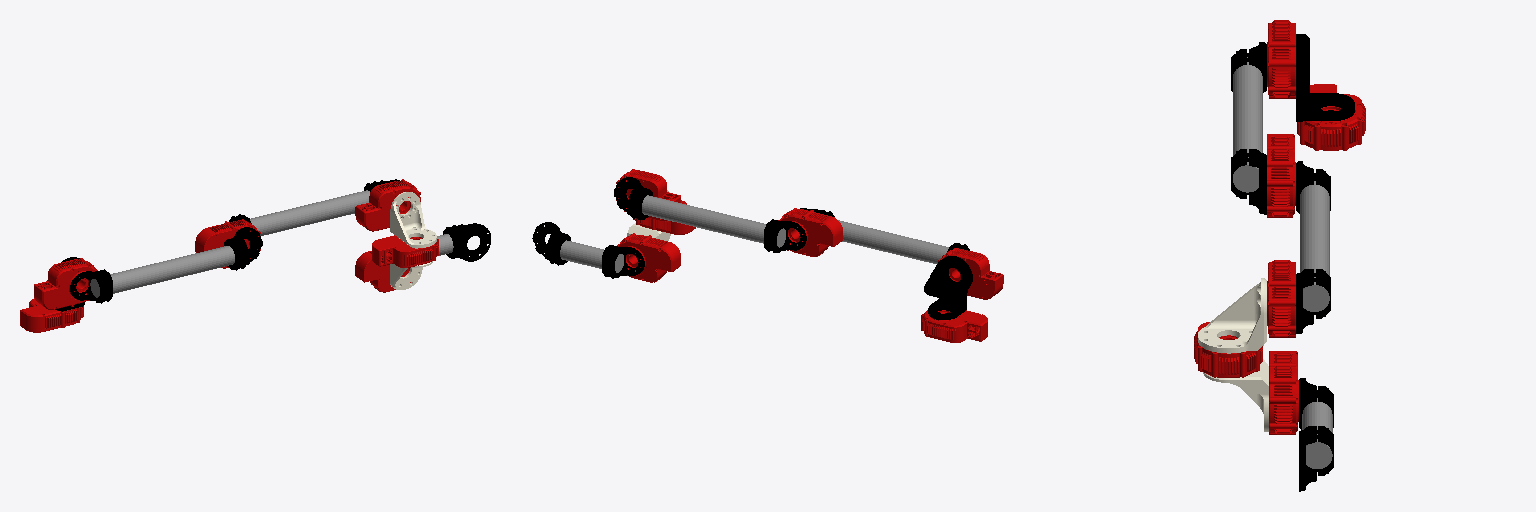
The robot description file, URDF, robot "6_dof_arm":
<?xml version="1.0" ?>
<!-- =================================================================================== -->
<!-- |    This document was autogenerated by xacro from 6_dof_arm.xacro                | -->
<!-- |    EDITING THIS FILE BY HAND IS NOT RECOMMENDED                                 | -->
<!-- =================================================================================== -->
<robot name="6_dof_arm" xmlns:xacro="http://www.ros.org/wiki/xacro">
  <!-- *************************** XACRO MACROS *************************** -->
  <!-- ************************* ROBOT DEFINITION ************************* -->
  <!-- world link -->
  <link name="world"/>
  <joint name="world_joint" type="fixed">
    <origin rpy="0 0 0" xyz="0 0 0"/>
    <parent link="world"/>
    <child link="HEBI/joint1/INPUT_INTERFACE"/>
  </joint>
  <link name="HEBI/joint1/INPUT_INTERFACE">
    <visual>
      <origin rpy="0 0 0" xyz="0 0 0"/>
      <geometry>
        <mesh filename="package://hebiros_description/meshes/x5.stl" scale="0.001 0.001 0.001"/>
      </geometry>
      <material name="red">
        <color rgba=".82 0.06 0.06 1"/>
      </material>
    </visual>
    <collision>
      <origin rpy="0 0 0" xyz="0 0 0"/>
      <geometry>
        <mesh filename="package://hebiros_description/meshes/x5.stl" scale="0.001 0.001 0.001"/>
      </geometry>
    </collision>
    <inertial>
      <origin rpy="0 0 0" xyz="-0.0142 -0.0031 0.0165"/>
      <mass value="0.335"/>
      <inertia ixx="0.00015" ixy="0.0000341" ixz="0.0000118" iyy="0.000255" iyz="0.00000229" izz="0.000350"/>
    </inertial>
  </link>
  <joint name="HEBI/joint1/X5_4" type="continuous">
    <parent link="HEBI/joint1/INPUT_INTERFACE"/>
    <child link="joint1_joint2/INPUT_INTERFACE"/>
    <origin rpy="0 0 0" xyz="0 0 0.031"/>
    <axis xyz="0 0 1"/>
    <limit effort="7.0" velocity="32"/>
    <dynamics damping="0.1" friction="0.1"/>
  </joint>
  <gazebo reference="HEBI/joint1/INPUT_INTERFACE">
    <selfCollide>true</selfCollide>
    <gravity>true</gravity>
    <sensor name="HEBI/joint1/imu_sensor" type="imu">
      <always_on>true</always_on>
      <update_rate>100</update_rate>
      <visualize>true</visualize>
      <plugin filename="libgazebo_ros_imu_sensor.so" name="imu_plugin">
        <topicName>/hebiros_gazebo_plugin/imu/HEBI/joint1</topicName>
        <bodyName>HEBI/joint1/imu_link</bodyName>
        <updateRateHZ>10.0</updateRateHZ>
        <gaussianNoise>0.0</gaussianNoise>
        <xyzOffset>0.025 0 0.003</xyzOffset>
        <rpyOffset>0 0 0</rpyOffset>
        <frameName>HEBI/joint1/imu_link</frameName>
      </plugin>
      <pose>0 0 0 0 0 0</pose>
    </sensor>
    <material>Gazebo/BlueGlow</material>
  </gazebo>
  <link name="joint1_joint2/INPUT_INTERFACE">
    <visual>
      <origin rpy="1.57079632679 0 1.57079632679" xyz="0 0 0.005"/>
      <geometry>
        <mesh filename="package://hebiros_description/meshes/PM-2149-01.stl" scale="0.001 0.001 0.001"/>
      </geometry>
      <material name="black">
        <color rgba="0 0 0 1"/>
      </material>
    </visual>
    <visual>
      <origin rpy="1.57079632679 0 0" xyz="0 -.03 .04"/>
      <geometry>
        <mesh filename="package://hebiros_description/meshes/PM-2150-01R.stl" scale="0.001 0.001 0.001"/>
      </geometry>
      <material name="black">
        <color rgba="0 0 0 1"/>
      </material>
    </visual>
    <collision>
      <origin rpy="1.57079632679 0 1.57079632679" xyz="0 0 0.005"/>
      <geometry>
        <mesh filename="package://hebiros_description/meshes/PM-2149-01.stl" scale="0.001 0.001 0.001"/>
      </geometry>
    </collision>
    <collision>
      <origin rpy="1.57079632679 0 0" xyz="0 -.03 .04"/>
      <geometry>
        <mesh filename="package://hebiros_description/meshes/PM-2150-01R.stl" scale="0.001 0.001 0.001"/>
      </geometry>
    </collision>
    <!-- NOTE: inertia is just modelled as small sphere, and could be improved. -->
    <inertial>
      <origin rpy="0 0 0" xyz="0 -0.01875 .0275"/>
      <mass value="0.215"/>
      <inertia ixx="0.0003096" ixy="0.0" ixz="0.0" iyy="0.0003096" iyz="0.0" izz="0.0003096"/>
    </inertial>
  </link>
  <joint name="joint1_joint2/OUTPUT_INTERFACE" type="fixed">
    <parent link="joint1_joint2/INPUT_INTERFACE"/>
    <child link="HEBI/joint2/INPUT_INTERFACE"/>
    <origin rpy="1.57079632679 0 0" xyz="0 -.0375 .055"/>
  </joint>
  <gazebo reference="joint1_joint2/INPUT_INTERFACE">
    <selfCollide>true</selfCollide>
  </gazebo>
  <link name="HEBI/joint2/INPUT_INTERFACE">
    <visual>
      <origin rpy="0 0 0" xyz="0 0 0"/>
      <geometry>
        <mesh filename="package://hebiros_description/meshes/x5.stl" scale="0.001 0.001 0.001"/>
      </geometry>
      <material name="red">
        <color rgba=".82 0.06 0.06 1"/>
      </material>
    </visual>
    <collision>
      <origin rpy="0 0 0" xyz="0 0 0"/>
      <geometry>
        <mesh filename="package://hebiros_description/meshes/x5.stl" scale="0.001 0.001 0.001"/>
      </geometry>
    </collision>
    <inertial>
      <origin rpy="0 0 0" xyz="-0.0142 -0.0031 0.0165"/>
      <mass value="0.335"/>
      <inertia ixx="0.00015" ixy="0.0000341" ixz="0.0000118" iyy="0.000255" iyz="0.00000229" izz="0.000350"/>
    </inertial>
  </link>
  <joint name="HEBI/joint2/X5_4" type="continuous">
    <parent link="HEBI/joint2/INPUT_INTERFACE"/>
    <child link="joint2_joint3/INPUT_INTERFACE"/>
    <origin rpy="0 0 0" xyz="0 0 0.031"/>
    <axis xyz="0 0 1"/>
    <limit effort="7.0" velocity="32"/>
    <dynamics damping="0.1" friction="0.1"/>
  </joint>
  <gazebo reference="HEBI/joint2/INPUT_INTERFACE">
    <selfCollide>true</selfCollide>
    <gravity>true</gravity>
    <sensor name="HEBI/joint2/imu_sensor" type="imu">
      <always_on>true</always_on>
      <update_rate>100</update_rate>
      <visualize>true</visualize>
      <plugin filename="libgazebo_ros_imu_sensor.so" name="imu_plugin">
        <topicName>/hebiros_gazebo_plugin/imu/HEBI/joint2</topicName>
        <bodyName>HEBI/joint2/imu_link</bodyName>
        <updateRateHZ>10.0</updateRateHZ>
        <gaussianNoise>0.0</gaussianNoise>
        <xyzOffset>0.025 0 0.003</xyzOffset>
        <rpyOffset>0 0 0</rpyOffset>
        <frameName>HEBI/joint2/imu_link</frameName>
      </plugin>
      <pose>0 0 0 0 0 0</pose>
    </sensor>
    <material>Gazebo/BlueGlow</material>
  </gazebo>
  <link name="joint2_joint3/INPUT_INTERFACE">
    <visual>
      <origin rpy="0 0 0" xyz="0 0 0"/>
      <geometry>
        <mesh filename="package://hebiros_description/meshes/A-2038-02.stl"/>
      </geometry>
      <material name="black">
        <color rgba="0 0 0 1"/>
      </material>
    </visual>
    <visual>
      <origin rpy="0 1.57075 0" xyz="0.15 0 0.02"/>
      <geometry>
        <cylinder length="0.2746" radius=".016"/>
      </geometry>
      <material name="silver">
        <color rgba="0.6 0.6 0.6 1"/>
      </material>
    </visual>
    <visual>
      <origin rpy="-3.14159265359 0 0" xyz="0.3 -2.44929359829e-18 0.0"/>
      <geometry>
        <mesh filename="package://hebiros_description/meshes/A-2039-02.stl"/>
      </geometry>
      <material name="black">
        <color rgba="0 0 0 1"/>
      </material>
    </visual>
    <collision>
      <origin rpy="0 0 0" xyz="0 0 0"/>
      <geometry>
        <mesh filename="package://hebiros_description/meshes/A-2038-02.stl"/>
      </geometry>
    </collision>
    <collision>
      <origin rpy="0 1.57075 0" xyz="0.15 0 0.02"/>
      <geometry>
        <cylinder length="0.2746" radius=".016"/>
      </geometry>
    </collision>
    <collision>
      <origin rpy="-3.14159265359 0 0" xyz="0.3 -2.44929359829e-18 0.0"/>
      <geometry>
        <mesh filename="package://hebiros_description/meshes/A-2039-02.stl"/>
      </geometry>
    </collision>
    <!-- Approximate inertia as thin rod about x axis -->
    <inertial>
      <origin rpy="0 0 0" xyz="0.15 0 0.02"/>
      <mass value="0.392"/>
      <inertia ixx="0.0" ixy="0.0" ixz="0.0" iyy="0.00294" iyz="0.0" izz="0.00294"/>
    </inertial>
  </link>
  <joint name="joint2_joint3/OUTPUT_JOINT" type="fixed">
    <parent link="joint2_joint3/INPUT_INTERFACE"/>
    <child link="HEBI/joint3/INPUT_INTERFACE"/>
    <origin rpy="3.14159265359 0 0" xyz="0.3 -2.44929359829e-18 0.0"/>
  </joint>
  <gazebo reference="joint2_joint3/INPUT_INTERFACE">
    <selfCollide>true</selfCollide>
    <material>Gazebo/FlatBlack</material>
  </gazebo>
  <link name="HEBI/joint3/INPUT_INTERFACE">
    <visual>
      <origin rpy="0 0 0" xyz="0 0 0"/>
      <geometry>
        <mesh filename="package://hebiros_description/meshes/x5.stl" scale="0.001 0.001 0.001"/>
      </geometry>
      <material name="red">
        <color rgba=".82 0.06 0.06 1"/>
      </material>
    </visual>
    <collision>
      <origin rpy="0 0 0" xyz="0 0 0"/>
      <geometry>
        <mesh filename="package://hebiros_description/meshes/x5.stl" scale="0.001 0.001 0.001"/>
      </geometry>
    </collision>
    <inertial>
      <origin rpy="0 0 0" xyz="-0.0142 -0.0031 0.0165"/>
      <mass value="0.335"/>
      <inertia ixx="0.00015" ixy="0.0000341" ixz="0.0000118" iyy="0.000255" iyz="0.00000229" izz="0.000350"/>
    </inertial>
  </link>
  <joint name="HEBI/joint3/X5_4" type="continuous">
    <parent link="HEBI/joint3/INPUT_INTERFACE"/>
    <child link="joint3_joint4/INPUT_INTERFACE"/>
    <origin rpy="0 0 0" xyz="0 0 0.031"/>
    <axis xyz="0 0 1"/>
    <limit effort="7.0" velocity="32"/>
    <dynamics damping="0.1" friction="0.1"/>
  </joint>
  <gazebo reference="HEBI/joint3/INPUT_INTERFACE">
    <selfCollide>true</selfCollide>
    <gravity>true</gravity>
    <sensor name="HEBI/joint3/imu_sensor" type="imu">
      <always_on>true</always_on>
      <update_rate>100</update_rate>
      <visualize>true</visualize>
      <plugin filename="libgazebo_ros_imu_sensor.so" name="imu_plugin">
        <topicName>/hebiros_gazebo_plugin/imu/HEBI/joint3</topicName>
        <bodyName>HEBI/joint3/imu_link</bodyName>
        <updateRateHZ>10.0</updateRateHZ>
        <gaussianNoise>0.0</gaussianNoise>
        <xyzOffset>0.025 0 0.003</xyzOffset>
        <rpyOffset>0 0 0</rpyOffset>
        <frameName>HEBI/joint3/imu_link</frameName>
      </plugin>
      <pose>0 0 0 0 0 0</pose>
    </sensor>
    <material>Gazebo/BlueGlow</material>
  </gazebo>
  <link name="joint3_joint4/INPUT_INTERFACE">
    <visual>
      <origin rpy="0 0 0" xyz="0 0 0"/>
      <geometry>
        <mesh filename="package://hebiros_description/meshes/A-2038-02.stl"/>
      </geometry>
      <material name="black">
        <color rgba="0 0 0 1"/>
      </material>
    </visual>
    <visual>
      <origin rpy="0 1.57075 0" xyz="0.15 0 0.02"/>
      <geometry>
        <cylinder length="0.2746" radius=".016"/>
      </geometry>
      <material name="silver">
        <color rgba="0.6 0.6 0.6 1"/>
      </material>
    </visual>
    <visual>
      <origin rpy="-3.14159265359 0 0" xyz="0.3 -2.44929359829e-18 0.0"/>
      <geometry>
        <mesh filename="package://hebiros_description/meshes/A-2039-02.stl"/>
      </geometry>
      <material name="black">
        <color rgba="0 0 0 1"/>
      </material>
    </visual>
    <collision>
      <origin rpy="0 0 0" xyz="0 0 0"/>
      <geometry>
        <mesh filename="package://hebiros_description/meshes/A-2038-02.stl"/>
      </geometry>
    </collision>
    <collision>
      <origin rpy="0 1.57075 0" xyz="0.15 0 0.02"/>
      <geometry>
        <cylinder length="0.2746" radius=".016"/>
      </geometry>
    </collision>
    <collision>
      <origin rpy="-3.14159265359 0 0" xyz="0.3 -2.44929359829e-18 0.0"/>
      <geometry>
        <mesh filename="package://hebiros_description/meshes/A-2039-02.stl"/>
      </geometry>
    </collision>
    <!-- Approximate inertia as thin rod about x axis -->
    <inertial>
      <origin rpy="0 0 0" xyz="0.15 0 0.02"/>
      <mass value="0.392"/>
      <inertia ixx="0.0" ixy="0.0" ixz="0.0" iyy="0.00294" iyz="0.0" izz="0.00294"/>
    </inertial>
  </link>
  <joint name="joint3_joint4/OUTPUT_JOINT" type="fixed">
    <parent link="joint3_joint4/INPUT_INTERFACE"/>
    <child link="HEBI/joint4/INPUT_INTERFACE"/>
    <origin rpy="3.14159265359 0 0" xyz="0.3 -2.44929359829e-18 0.0"/>
  </joint>
  <gazebo reference="joint3_joint4/INPUT_INTERFACE">
    <selfCollide>true</selfCollide>
    <material>Gazebo/FlatBlack</material>
  </gazebo>
  <link name="HEBI/joint4/INPUT_INTERFACE">
    <visual>
      <origin rpy="0 0 0" xyz="0 0 0"/>
      <geometry>
        <mesh filename="package://hebiros_description/meshes/x5.stl" scale="0.001 0.001 0.001"/>
      </geometry>
      <material name="red">
        <color rgba=".82 0.06 0.06 1"/>
      </material>
    </visual>
    <collision>
      <origin rpy="0 0 0" xyz="0 0 0"/>
      <geometry>
        <mesh filename="package://hebiros_description/meshes/x5.stl" scale="0.001 0.001 0.001"/>
      </geometry>
    </collision>
    <inertial>
      <origin rpy="0 0 0" xyz="-0.0142 -0.0031 0.0165"/>
      <mass value="0.335"/>
      <inertia ixx="0.00015" ixy="0.0000341" ixz="0.0000118" iyy="0.000255" iyz="0.00000229" izz="0.000350"/>
    </inertial>
  </link>
  <joint name="HEBI/joint4/X5_4" type="continuous">
    <parent link="HEBI/joint4/INPUT_INTERFACE"/>
    <child link="joint4_joint5/INPUT_INTERFACE"/>
    <origin rpy="0 0 0" xyz="0 0 0.031"/>
    <axis xyz="0 0 1"/>
    <limit effort="7.0" velocity="32"/>
    <dynamics damping="0.1" friction="0.1"/>
  </joint>
  <gazebo reference="HEBI/joint4/INPUT_INTERFACE">
    <selfCollide>true</selfCollide>
    <gravity>true</gravity>
    <sensor name="HEBI/joint4/imu_sensor" type="imu">
      <always_on>true</always_on>
      <update_rate>100</update_rate>
      <visualize>true</visualize>
      <plugin filename="libgazebo_ros_imu_sensor.so" name="imu_plugin">
        <topicName>/hebiros_gazebo_plugin/imu/HEBI/joint4</topicName>
        <bodyName>HEBI/joint4/imu_link</bodyName>
        <updateRateHZ>10.0</updateRateHZ>
        <gaussianNoise>0.0</gaussianNoise>
        <xyzOffset>0.025 0 0.003</xyzOffset>
        <rpyOffset>0 0 0</rpyOffset>
        <frameName>HEBI/joint4/imu_link</frameName>
      </plugin>
      <pose>0 0 0 0 0 0</pose>
    </sensor>
    <material>Gazebo/BlueGlow</material>
  </gazebo>
  <link name="joint4_joint5/INPUT_INTERFACE">
    <visual>
      <origin rpy="1.57079632679 0 -1.57079632679" xyz="0 0 0"/>
      <geometry>
        <mesh filename="package://hebiros_description/meshes/PM-2132-01R.stl" scale="0.001 0.001 0.001"/>
      </geometry>
      <material name="beige">
        <color rgba="0.96 0.945 0.871 1"/>
      </material>
    </visual>
    <collision>
      <origin rpy="1.57079632679 0 -1.57079632679" xyz="0 0 0"/>
      <geometry>
        <mesh filename="package://hebiros_description/meshes/PM-2132-01R.stl" scale="0.001 0.001 0.001"/>
      </geometry>
    </collision>
    <!-- NOTE: inertia is just modelled as small sphere, and could be improved. -->
    <inertial>
      <origin rpy="0 0 0" xyz="0 -.0215 .02"/>
      <mass value="0.1"/>
      <inertia ixx="0.000144" ixy="0.0" ixz="0.0" iyy="0.000144" iyz="0.0" izz="0.000144"/>
    </inertial>
  </link>
  <joint name="joint4_joint5/OUTPUT_INTERFACE" type="fixed">
    <parent link="joint4_joint5/INPUT_INTERFACE"/>
    <child link="HEBI/joint5/INPUT_INTERFACE"/>
    <origin rpy="1.57079632679 0 0" xyz="0 -.043 .04"/>
  </joint>
  <gazebo reference="joint4_joint5/INPUT_INTERFACE">
    <selfCollide>true</selfCollide>
  </gazebo>
  <link name="HEBI/joint5/INPUT_INTERFACE">
    <visual>
      <origin rpy="0 0 0" xyz="0 0 0"/>
      <geometry>
        <mesh filename="package://hebiros_description/meshes/x5.stl" scale="0.001 0.001 0.001"/>
      </geometry>
      <material name="red">
        <color rgba=".82 0.06 0.06 1"/>
      </material>
    </visual>
    <collision>
      <origin rpy="0 0 0" xyz="0 0 0"/>
      <geometry>
        <mesh filename="package://hebiros_description/meshes/x5.stl" scale="0.001 0.001 0.001"/>
      </geometry>
    </collision>
    <inertial>
      <origin rpy="0 0 0" xyz="-0.0142 -0.0031 0.0165"/>
      <mass value="0.335"/>
      <inertia ixx="0.00015" ixy="0.0000341" ixz="0.0000118" iyy="0.000255" iyz="0.00000229" izz="0.000350"/>
    </inertial>
  </link>
  <joint name="HEBI/joint5/X5_4" type="continuous">
    <parent link="HEBI/joint5/INPUT_INTERFACE"/>
    <child link="joint5_joint6/INPUT_INTERFACE"/>
    <origin rpy="0 0 0" xyz="0 0 0.031"/>
    <axis xyz="0 0 1"/>
    <limit effort="7.0" velocity="32"/>
    <dynamics damping="0.1" friction="0.1"/>
  </joint>
  <gazebo reference="HEBI/joint5/INPUT_INTERFACE">
    <selfCollide>true</selfCollide>
    <gravity>true</gravity>
    <sensor name="HEBI/joint5/imu_sensor" type="imu">
      <always_on>true</always_on>
      <update_rate>100</update_rate>
      <visualize>true</visualize>
      <plugin filename="libgazebo_ros_imu_sensor.so" name="imu_plugin">
        <topicName>/hebiros_gazebo_plugin/imu/HEBI/joint5</topicName>
        <bodyName>HEBI/joint5/imu_link</bodyName>
        <updateRateHZ>10.0</updateRateHZ>
        <gaussianNoise>0.0</gaussianNoise>
        <xyzOffset>0.025 0 0.003</xyzOffset>
        <rpyOffset>0 0 0</rpyOffset>
        <frameName>HEBI/joint5/imu_link</frameName>
      </plugin>
      <pose>0 0 0 0 0 0</pose>
    </sensor>
    <material>Gazebo/BlueGlow</material>
  </gazebo>
  <link name="joint5_joint6/INPUT_INTERFACE">
    <visual>
      <origin rpy="1.57079632679 0 -1.57079632679" xyz="0 0 0"/>
      <geometry>
        <mesh filename="package://hebiros_description/meshes/PM-2132-01R.stl" scale="0.001 0.001 0.001"/>
      </geometry>
      <material name="beige">
        <color rgba="0.96 0.945 0.871 1"/>
      </material>
    </visual>
    <collision>
      <origin rpy="1.57079632679 0 -1.57079632679" xyz="0 0 0"/>
      <geometry>
        <mesh filename="package://hebiros_description/meshes/PM-2132-01R.stl" scale="0.001 0.001 0.001"/>
      </geometry>
    </collision>
    <!-- NOTE: inertia is just modelled as small sphere, and could be improved. -->
    <inertial>
      <origin rpy="0 0 0" xyz="0 -.0215 .02"/>
      <mass value="0.1"/>
      <inertia ixx="0.000144" ixy="0.0" ixz="0.0" iyy="0.000144" iyz="0.0" izz="0.000144"/>
    </inertial>
  </link>
  <joint name="joint5_joint6/OUTPUT_INTERFACE" type="fixed">
    <parent link="joint5_joint6/INPUT_INTERFACE"/>
    <child link="HEBI/joint6/INPUT_INTERFACE"/>
    <origin rpy="1.57079632679 0 0" xyz="0 -.043 .04"/>
  </joint>
  <gazebo reference="joint5_joint6/INPUT_INTERFACE">
    <selfCollide>true</selfCollide>
  </gazebo>
  <link name="HEBI/joint6/INPUT_INTERFACE">
    <visual>
      <origin rpy="0 0 0" xyz="0 0 0"/>
      <geometry>
        <mesh filename="package://hebiros_description/meshes/x5.stl" scale="0.001 0.001 0.001"/>
      </geometry>
      <material name="red">
        <color rgba=".82 0.06 0.06 1"/>
      </material>
    </visual>
    <collision>
      <origin rpy="0 0 0" xyz="0 0 0"/>
      <geometry>
        <mesh filename="package://hebiros_description/meshes/x5.stl" scale="0.001 0.001 0.001"/>
      </geometry>
    </collision>
    <inertial>
      <origin rpy="0 0 0" xyz="-0.0142 -0.0031 0.0165"/>
      <mass value="0.335"/>
      <inertia ixx="0.00015" ixy="0.0000341" ixz="0.0000118" iyy="0.000255" iyz="0.00000229" izz="0.000350"/>
    </inertial>
  </link>
  <joint name="HEBI/joint6/X5_4" type="continuous">
    <parent link="HEBI/joint6/INPUT_INTERFACE"/>
    <child link="joint6_end/INPUT_INTERFACE"/>
    <origin rpy="0 0 0" xyz="0 0 0.031"/>
    <axis xyz="0 0 1"/>
    <limit effort="7.0" velocity="32"/>
    <dynamics damping="0.1" friction="0.1"/>
  </joint>
  <gazebo reference="HEBI/joint6/INPUT_INTERFACE">
    <selfCollide>true</selfCollide>
    <gravity>true</gravity>
    <sensor name="HEBI/joint6/imu_sensor" type="imu">
      <always_on>true</always_on>
      <update_rate>100</update_rate>
      <visualize>true</visualize>
      <plugin filename="libgazebo_ros_imu_sensor.so" name="imu_plugin">
        <topicName>/hebiros_gazebo_plugin/imu/HEBI/joint6</topicName>
        <bodyName>HEBI/joint6/imu_link</bodyName>
        <updateRateHZ>10.0</updateRateHZ>
        <gaussianNoise>0.0</gaussianNoise>
        <xyzOffset>0.025 0 0.003</xyzOffset>
        <rpyOffset>0 0 0</rpyOffset>
        <frameName>HEBI/joint6/imu_link</frameName>
      </plugin>
      <pose>0 0 0 0 0 0</pose>
    </sensor>
    <material>Gazebo/BlueGlow</material>
  </gazebo>
  <link name="joint6_end/INPUT_INTERFACE">
    <visual>
      <origin rpy="0 0 0" xyz="0 0 0"/>
      <geometry>
        <mesh filename="package://hebiros_description/meshes/A-2038-02.stl"/>
      </geometry>
      <material name="black">
        <color rgba="0 0 0 1"/>
      </material>
    </visual>
    <visual>
      <origin rpy="0 1.57075 0" xyz="0.075 0 0.02"/>
      <geometry>
        <cylinder length="0.1246" radius=".016"/>
      </geometry>
      <material name="silver">
        <color rgba="0.6 0.6 0.6 1"/>
      </material>
    </visual>
    <visual>
      <origin rpy="-3.14159265359 0 0" xyz="0.15 -2.44929359829e-18 0.0"/>
      <geometry>
        <mesh filename="package://hebiros_description/meshes/A-2039-02.stl"/>
      </geometry>
      <material name="black">
        <color rgba="0 0 0 1"/>
      </material>
    </visual>
    <collision>
      <origin rpy="0 0 0" xyz="0 0 0"/>
      <geometry>
        <mesh filename="package://hebiros_description/meshes/A-2038-02.stl"/>
      </geometry>
    </collision>
    <collision>
      <origin rpy="0 1.57075 0" xyz="0.075 0 0.02"/>
      <geometry>
        <cylinder length="0.1246" radius=".016"/>
      </geometry>
    </collision>
    <collision>
      <origin rpy="-3.14159265359 0 0" xyz="0.15 -2.44929359829e-18 0.0"/>
      <geometry>
        <mesh filename="package://hebiros_description/meshes/A-2039-02.stl"/>
      </geometry>
    </collision>
    <!-- Approximate inertia as thin rod about x axis -->
    <inertial>
      <origin rpy="0 0 0" xyz="0.075 0 0.02"/>
      <mass value="0.332"/>
      <inertia ixx="0.0" ixy="0.0" ixz="0.0" iyy="0.0006225" iyz="0.0" izz="0.0006225"/>
    </inertial>
  </link>
  <joint name="joint6_end/OUTPUT_JOINT" type="fixed">
    <parent link="joint6_end/INPUT_INTERFACE"/>
    <child link="end_effector/INPUT_INTERFACE"/>
    <origin rpy="3.14159265359 0 0" xyz="0.15 -2.44929359829e-18 0.0"/>
  </joint>
  <gazebo reference="joint6_end/INPUT_INTERFACE">
    <selfCollide>true</selfCollide>
    <material>Gazebo/FlatBlack</material>
  </gazebo>
  <!-- end link -->
  <link name="end_effector/INPUT_INTERFACE">
  </link>
  <gazebo>
    <plugin filename="libhebiros_gazebo_plugin.so" name="hebiros_gazebo_plugin">
    </plugin>
  </gazebo>
</robot>

--- Facts derived from the render (not from the file) ---
3 views of the same robot in one strip: view 1: azimuth 30°, elevation 25°; view 2: azimuth 150°, elevation 25°; view 3: azimuth 270°, elevation 25° (orthographic).
Robot: 6_dof_arm — 14 links, 13 joints (6 continuous, 7 fixed); root link world; default pose: every joint at zero.
Links seen in each view (by area): view 1: joint2_joint3/INPUT_INTERFACE, joint3_joint4/INPUT_INTERFACE, HEBI/joint2/INPUT_INTERFACE, HEBI/joint4/INPUT_INTERFACE, joint4_joint5/INPUT_INTERFACE, HEBI/joint5/INPUT_INTERFACE, joint6_end/INPUT_INTERFACE, HEBI/joint1/INPUT_INTERFACE, HEBI/joint3/INPUT_INTERFACE, HEBI/joint6/INPUT_INTERFACE, joint5_joint6/INPUT_INTERFACE; view 2: joint3_joint4/INPUT_INTERFACE, joint6_end/INPUT_INTERFACE, joint2_joint3/INPUT_INTERFACE, joint1_joint2/INPUT_INTERFACE, HEBI/joint3/INPUT_INTERFACE, HEBI/joint6/INPUT_INTERFACE, HEBI/joint1/INPUT_INTERFACE, HEBI/joint2/INPUT_INTERFACE, HEBI/joint4/INPUT_INTERFACE, HEBI/joint5/INPUT_INTERFACE; view 3: joint2_joint3/INPUT_INTERFACE, joint3_joint4/INPUT_INTERFACE, joint6_end/INPUT_INTERFACE, joint4_joint5/INPUT_INTERFACE, HEBI/joint6/INPUT_INTERFACE, HEBI/joint1/INPUT_INTERFACE, HEBI/joint3/INPUT_INTERFACE, joint1_joint2/INPUT_INTERFACE, HEBI/joint2/INPUT_INTERFACE, HEBI/joint4/INPUT_INTERFACE, HEBI/joint5/INPUT_INTERFACE, joint5_joint6/INPUT_INTERFACE.
Link boxes in pixels (<box>): joint2_joint3/INPUT_INTERFACE: <box>70,227,262,303</box>; joint3_joint4/INPUT_INTERFACE: <box>229,179,399,235</box>; HEBI/joint2/INPUT_INTERFACE: <box>34,258,97,309</box>; HEBI/joint4/INPUT_INTERFACE: <box>355,179,420,231</box>; joint4_joint5/INPUT_INTERFACE: <box>390,192,436,248</box>; HEBI/joint5/INPUT_INTERFACE: <box>372,235,438,267</box>; joint6_end/INPUT_INTERFACE: <box>437,223,490,261</box>; HEBI/joint1/INPUT_INTERFACE: <box>20,298,83,332</box>; HEBI/joint3/INPUT_INTERFACE: <box>195,219,260,268</box>; HEBI/joint6/INPUT_INTERFACE: <box>355,251,410,292</box>; joint5_joint6/INPUT_INTERFACE: <box>390,261,432,289</box>; joint3_joint4/INPUT_INTERFACE: <box>614,177,806,252</box>; joint6_end/INPUT_INTERFACE: <box>532,222,644,278</box>; joint2_joint3/INPUT_INTERFACE: <box>800,208,969,263</box>; joint1_joint2/INPUT_INTERFACE: <box>924,256,972,319</box>; HEBI/joint3/INPUT_INTERFACE: <box>778,208,842,256</box>; HEBI/joint6/INPUT_INTERFACE: <box>617,233,680,282</box>; HEBI/joint1/INPUT_INTERFACE: <box>921,310,987,342</box>; HEBI/joint2/INPUT_INTERFACE: <box>938,248,1003,299</box>; HEBI/joint4/INPUT_INTERFACE: <box>616,169,680,220</box>; HEBI/joint5/INPUT_INTERFACE: <box>633,200,695,234</box>; joint2_joint3/INPUT_INTERFACE: <box>1231,42,1266,214</box>; joint3_joint4/INPUT_INTERFACE: <box>1296,161,1330,333</box>; joint6_end/INPUT_INTERFACE: <box>1299,378,1333,491</box>; joint4_joint5/INPUT_INTERFACE: <box>1198,278,1266,353</box>; HEBI/joint6/INPUT_INTERFACE: <box>1269,351,1298,434</box>; HEBI/joint1/INPUT_INTERFACE: <box>1297,84,1365,150</box>; HEBI/joint3/INPUT_INTERFACE: <box>1267,134,1295,217</box>; joint1_joint2/INPUT_INTERFACE: <box>1296,34,1354,121</box>; HEBI/joint2/INPUT_INTERFACE: <box>1267,20,1295,98</box>; HEBI/joint4/INPUT_INTERFACE: <box>1267,260,1295,337</box>; HEBI/joint5/INPUT_INTERFACE: <box>1194,322,1262,377</box>; joint5_joint6/INPUT_INTERFACE: <box>1203,359,1268,431</box>.
Size in the robot's own frame: 0.8556 by 0.1815 by 0.187 metres.
16 mesh visuals loaded from 6 distinct referenced files (6 binary STL).